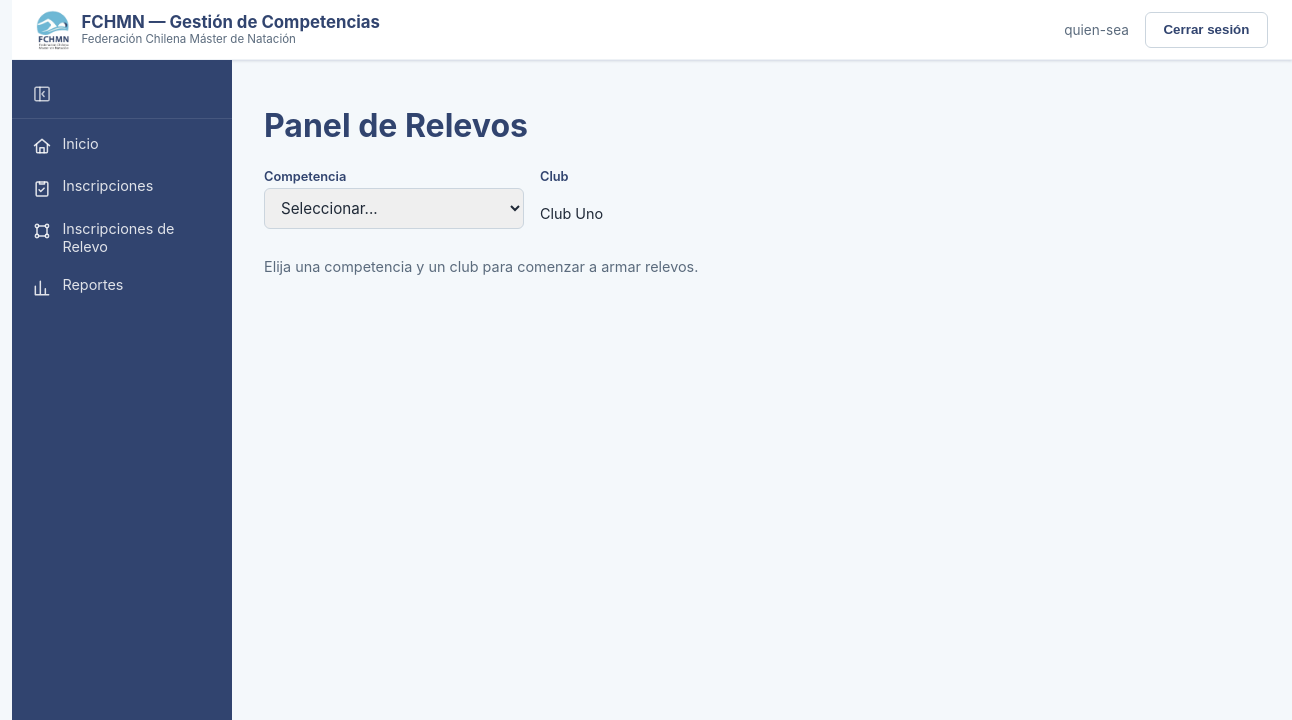
it: no se puede guardar un equipo incompleto › la pantalla carga sus tres fuentes y ninguna más
Check: the text "Club Uno" is shown, box [540, 205, 603, 222]
Select "Competencia A" in the dropdown. click: (394, 209)
box: [264, 188, 524, 229]
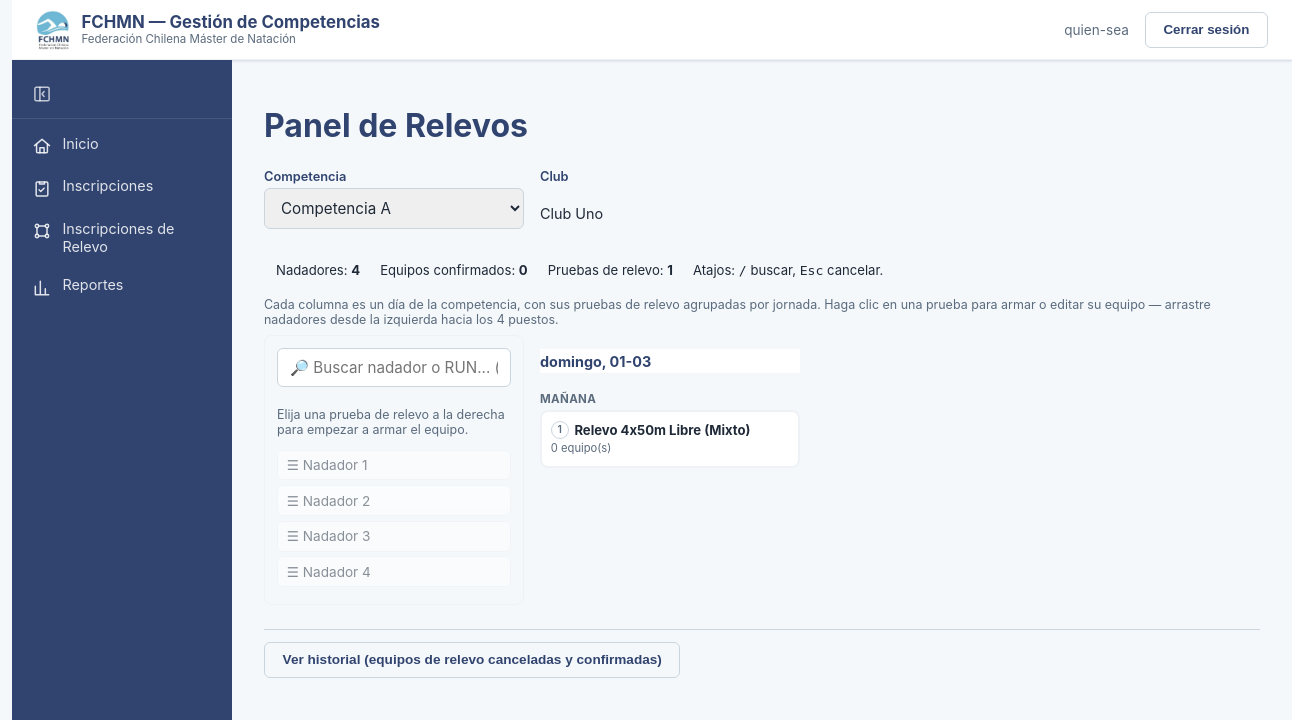
Check: the text "☰ Nadador 1" is shown, box [277, 450, 511, 480]
Click the element showing "1 Relevo 4x50m Libre (Mixto)". click: click(651, 430)
box: [551, 421, 750, 439]
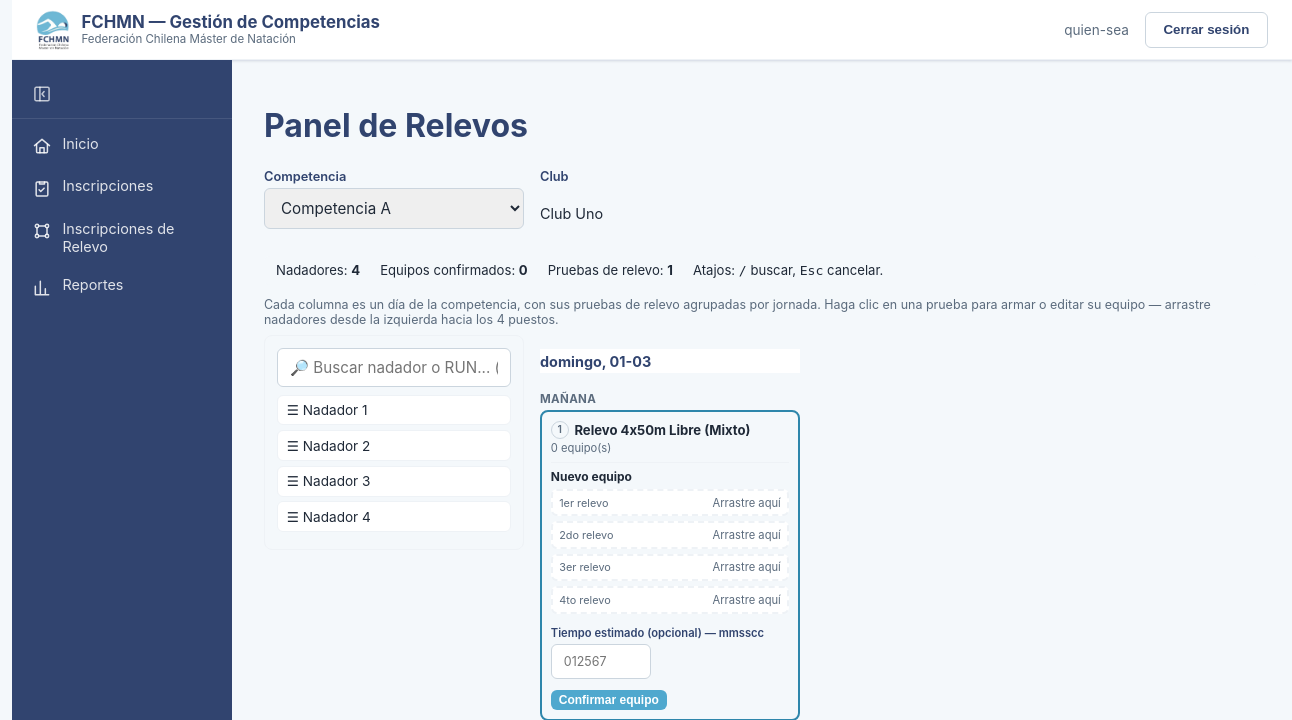
Check: the button "Confirmar equipo" is shown, box [551, 690, 667, 710]
